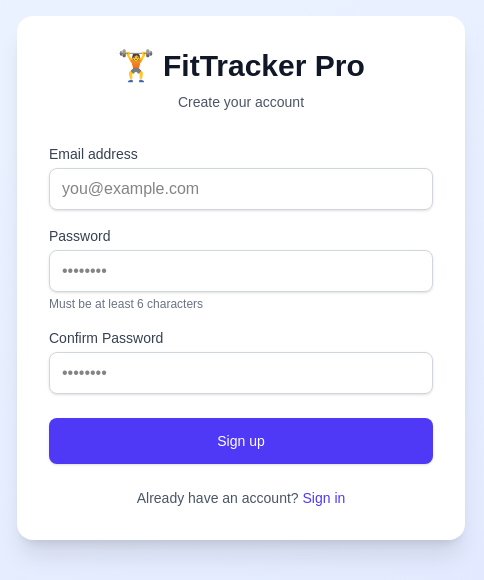
Test: Signup Page › Form Submission › should show success message after signup
Type "test@example.com" into the field labelled "Email address" at coordinates (241, 189), box [49,168,433,210]
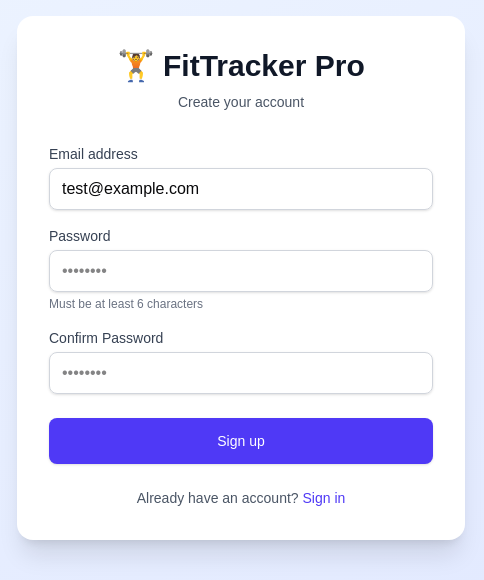
Type "password123" into the password field labelled "Password" at coordinates (241, 271), box [49,250,433,292]
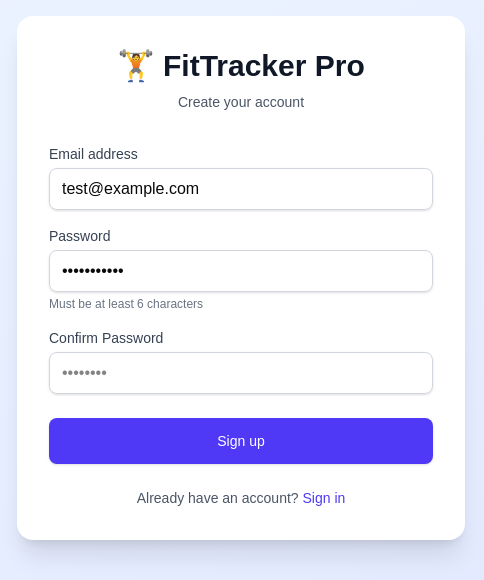
Type "password123" into the password field labelled "Confirm Password" at coordinates (241, 373), box [49,352,433,394]
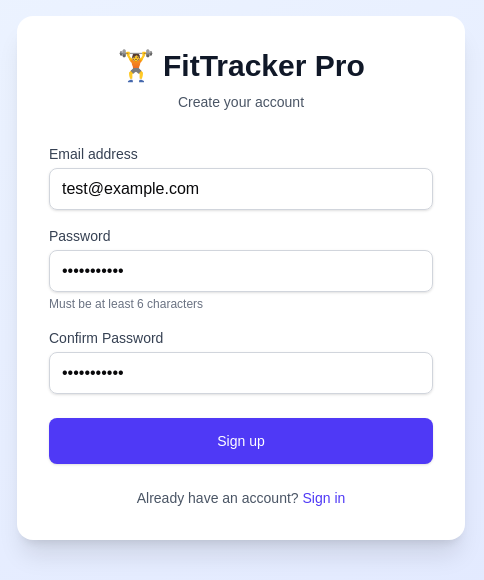
Click the button "Sign up" at coordinates (241, 441), box [49,418,433,464]
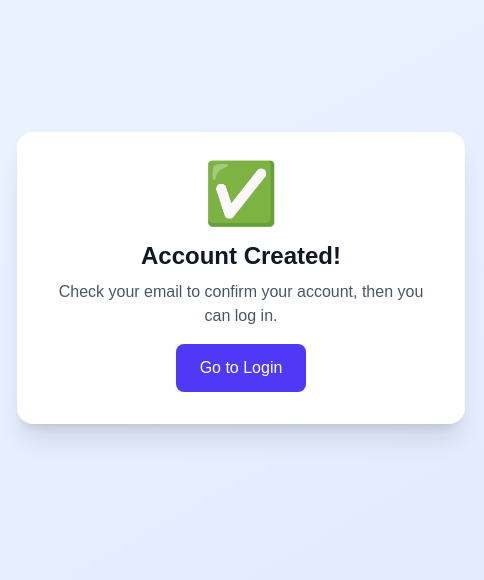
Now the text "Check your email" is shown, box [59,283,423,324]
